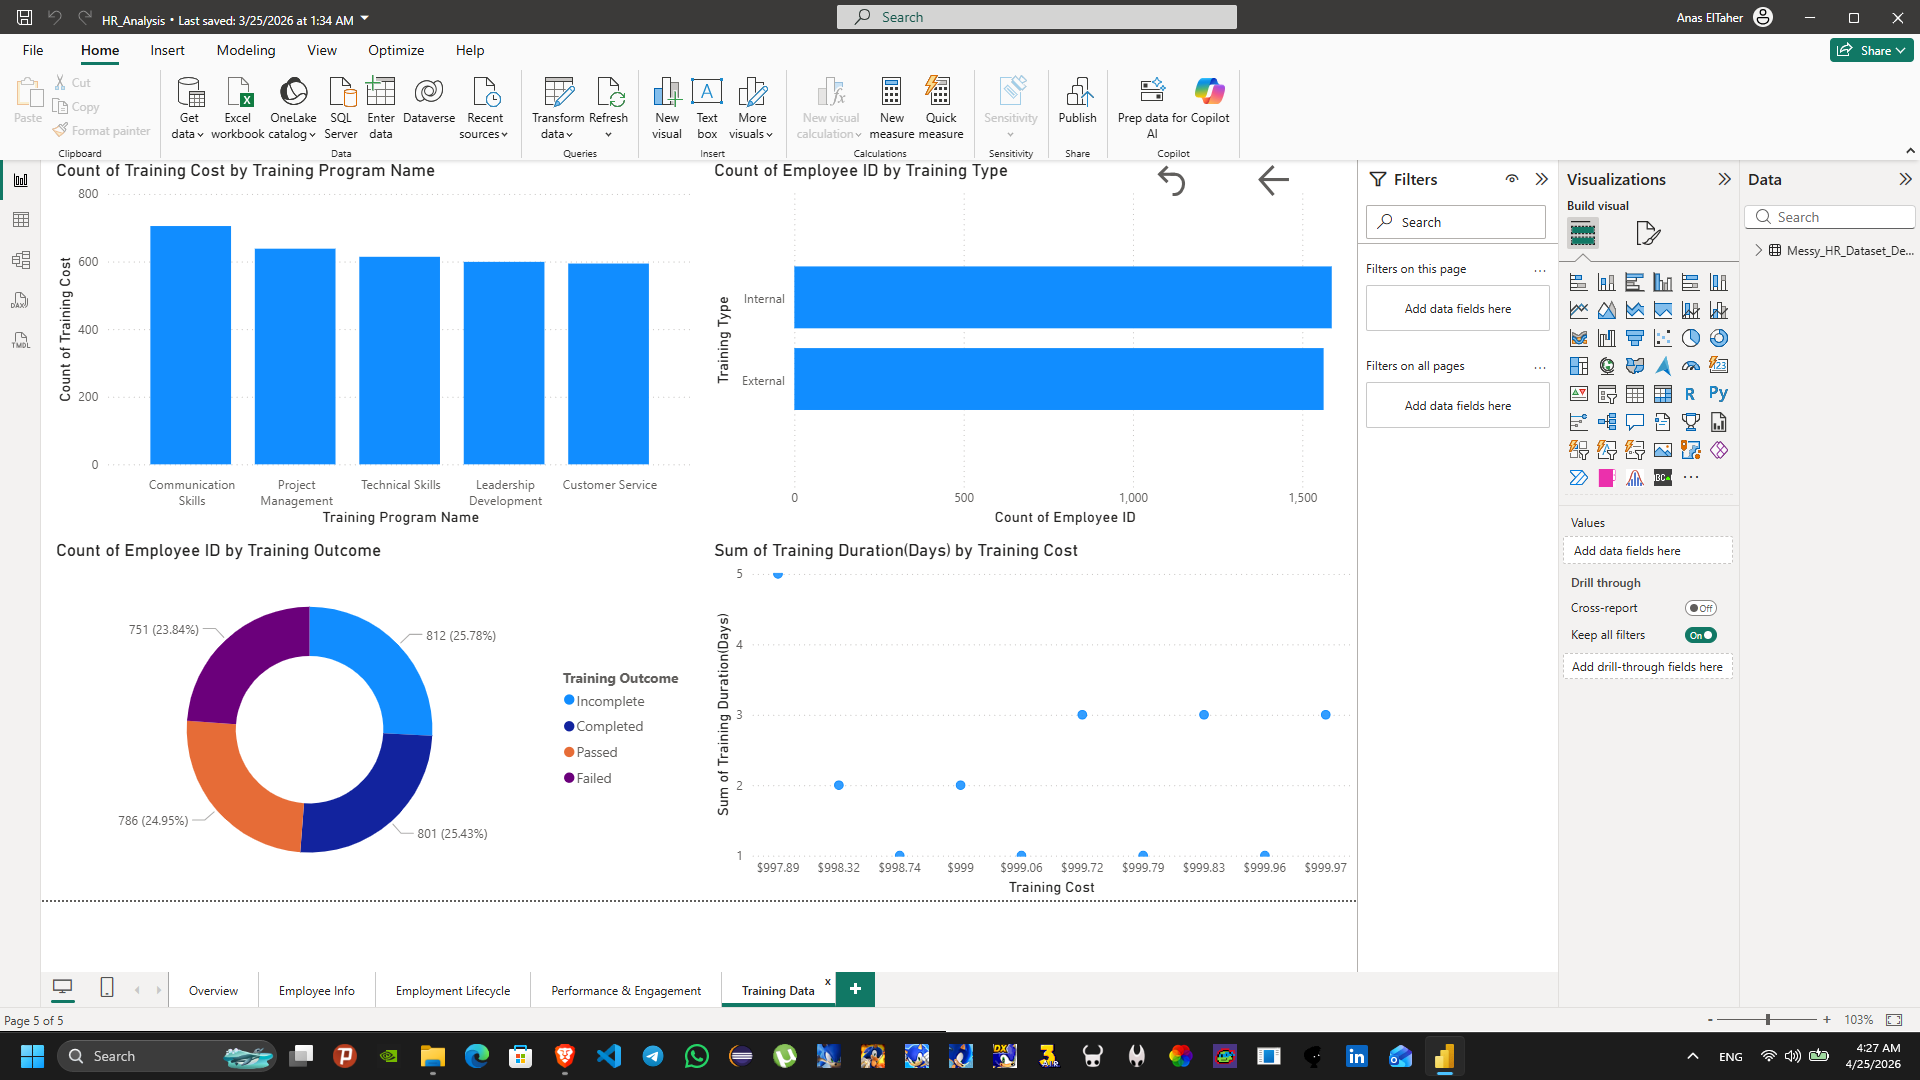

The page's visual inventory and layout, read from the dashboard file:
{"tool":"powerbi","page":{"name":"Training Data","canvas":[1280,720],"ordinal":4},"visuals":[{"type":"clusteredColumnChart","fields":{"Category":["Messy_HR_Dataset_Detailed.Training Program Name"],"Y":["CountNonNull(Messy_HR_Dataset_Detailed.Training Cost)"]},"box":[10,0,630,360],"z":0},{"type":"donutChart","fields":{"Category":["Messy_HR_Dataset_Detailed.Training Outcome"],"Y":["CountNonNull(Messy_HR_Dataset_Detailed.Employee ID)"]},"box":[10,370,630,350],"z":1},{"type":"clusteredBarChart","fields":{"Category":["Messy_HR_Dataset_Detailed.Training Type"],"Y":["CountNonNull(Messy_HR_Dataset_Detailed.Employee ID)"]},"box":[650,0,630,360],"z":2},{"type":"scatterChart","fields":{"X":["Messy_HR_Dataset_Detailed.Training Cost"],"Y":["Sum(Messy_HR_Dataset_Detailed.Training Duration(Days))"]},"box":[650,370,630,350],"z":3},{"type":"actionButton","box":[1180,0,100,40],"z":4},{"type":"actionButton","box":[1080,0,100,40],"z":5}]}

Visuals, with their boxes on the page's 1280x720 design canvas (x1, y1, x2, y2). These are canvas units, not pixel positions in the 1920x1080 screenshot, which may show the page scaled, cropped or inside an application window:
clusteredColumnChart - Messy_HR_Dataset_Detailed.Training Program Name x CountNonNull(Messy_HR_Dataset_Detailed.Training Cost): 10,0,640,360
donutChart - Messy_HR_Dataset_Detailed.Training Outcome x CountNonNull(Messy_HR_Dataset_Detailed.Employee ID): 10,370,640,720
clusteredBarChart - Messy_HR_Dataset_Detailed.Training Type x CountNonNull(Messy_HR_Dataset_Detailed.Employee ID): 650,0,1280,360
scatterChart - Messy_HR_Dataset_Detailed.Training Cost x Sum(Messy_HR_Dataset_Detailed.Training Duration(Days)): 650,370,1280,720
actionButton: 1180,0,1280,40
actionButton: 1080,0,1180,40
